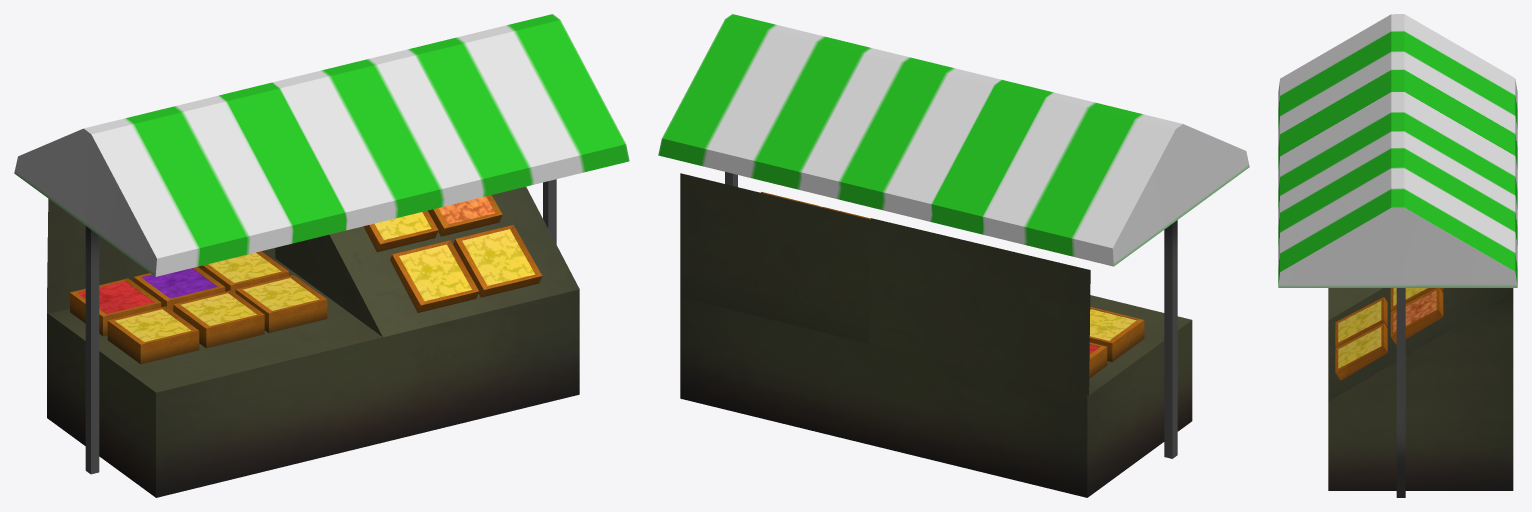
File: stall one.FBX
The picture shows the model from 3 angles, left to right: view 1: azimuth 30°, elevation 25°; view 2: azimuth 150°, elevation 25°; view 3: azimuth 270°, elevation 25°; orthographic projection. The views are drawn at different scales.
Visible parts, largest first — view 1: stall; view 2: stall; view 3: stall.
Part boxes in pixels (x1,y1,x2,y2): stall: (14, 14, 629, 497); stall: (658, 14, 1249, 497); stall: (1278, 14, 1517, 497).
Size of the model in its own units: 310 by 214 by 160.
